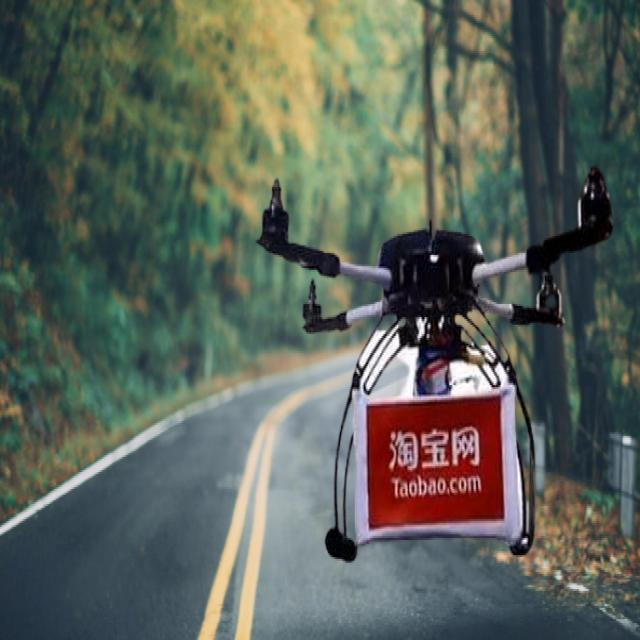drones: (247, 157, 618, 576)
